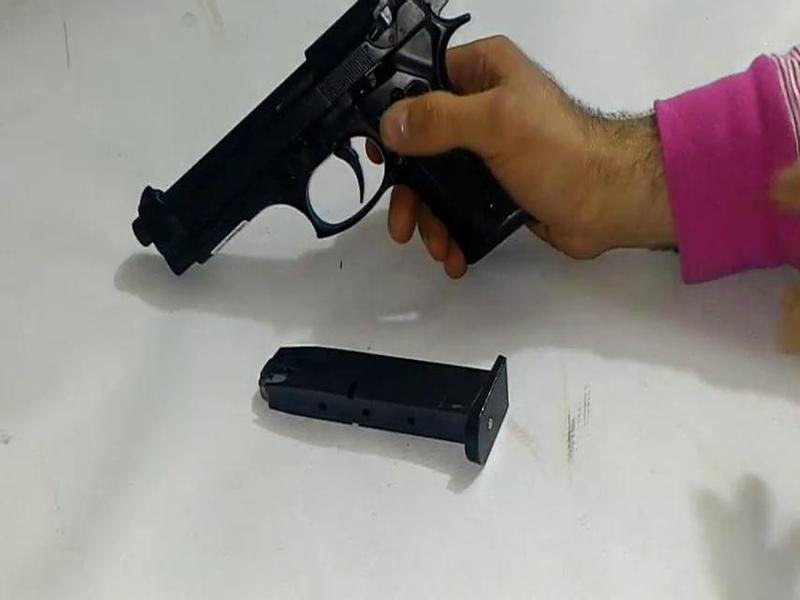Pistola: (137, 1, 521, 277)
